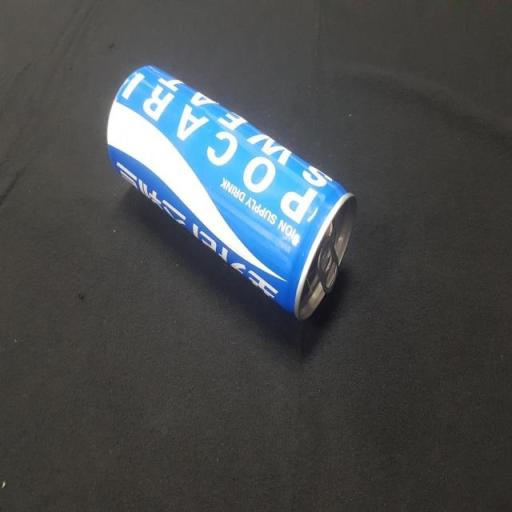metal: (86, 55, 379, 349)
